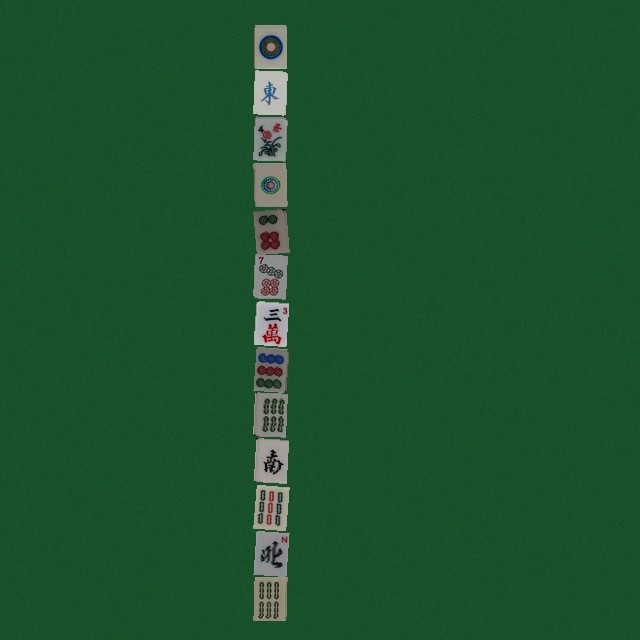tile: (253, 24, 286, 68), (253, 70, 286, 114), (253, 116, 286, 160), (253, 162, 286, 206), (253, 208, 286, 252), (253, 254, 286, 298), (253, 300, 286, 344), (253, 346, 286, 390), (253, 392, 286, 436), (253, 438, 286, 482), (253, 484, 286, 528), (253, 530, 286, 574), (253, 576, 286, 620)
